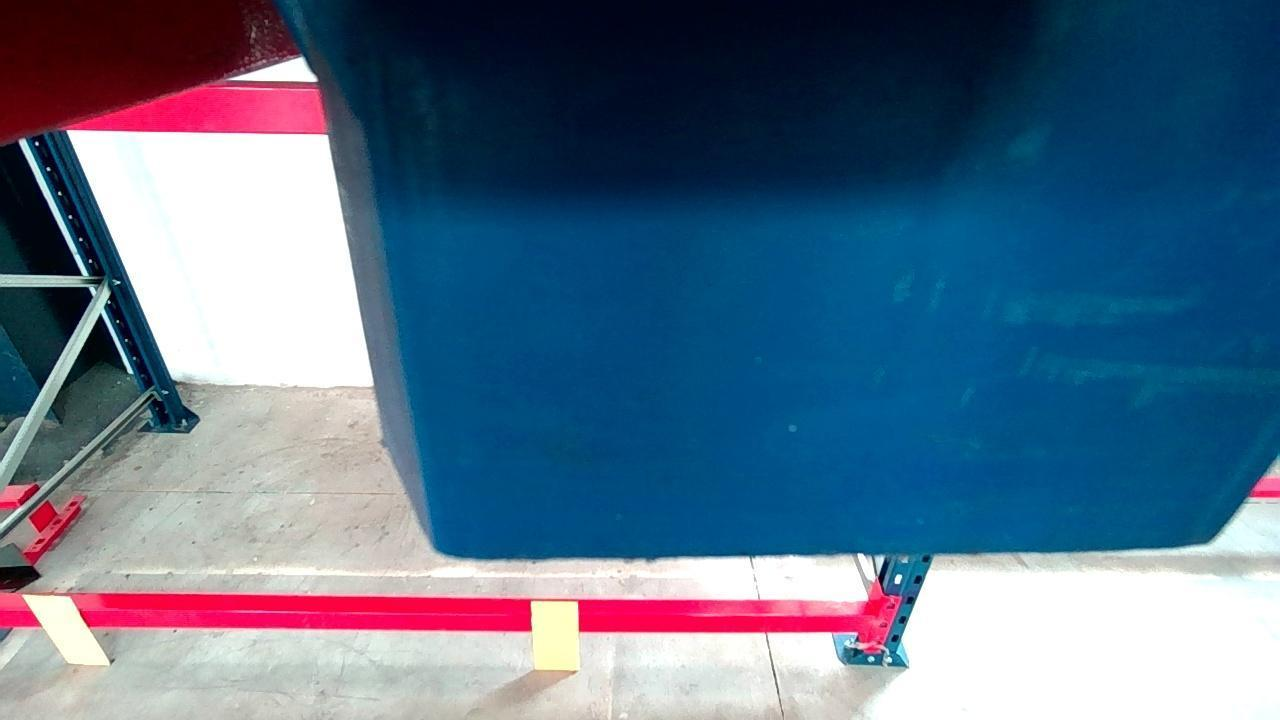h_rack: (0, 605, 866, 631), (54, 84, 326, 130)
orange_strip: (23, 594, 107, 662), (533, 603, 578, 673)
